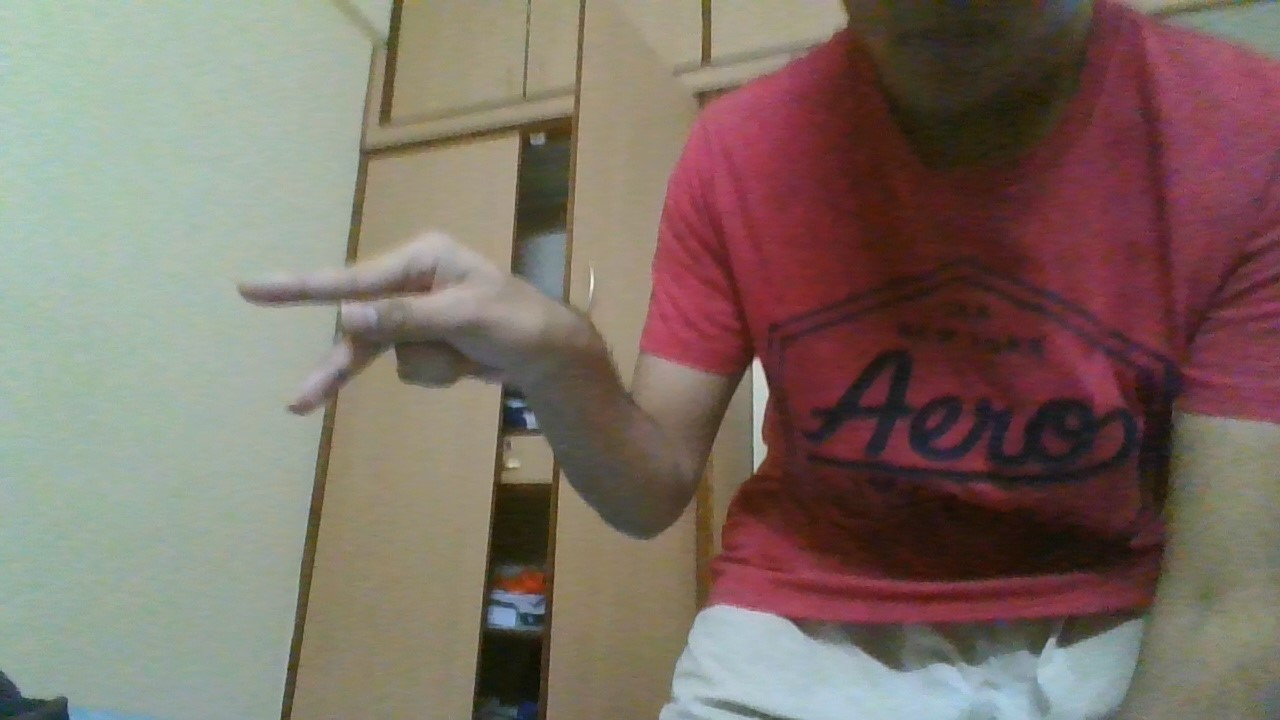p: (232, 228, 571, 421)
